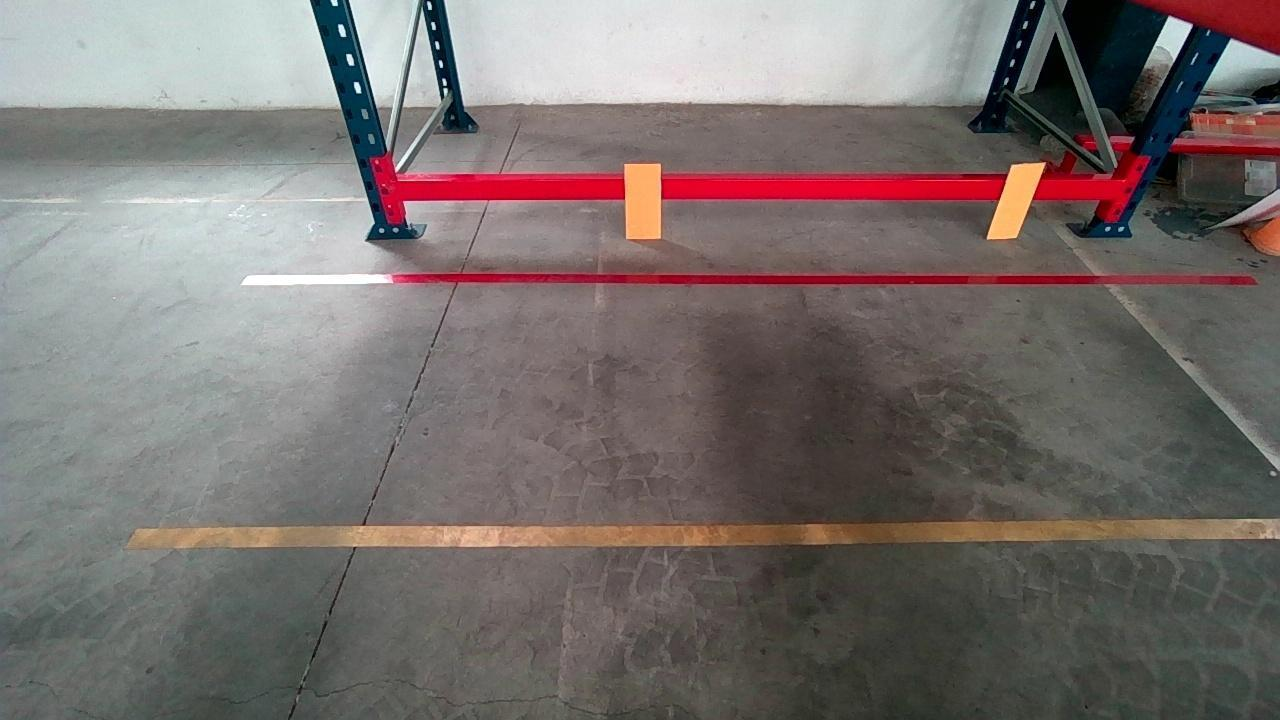h_rack: (396, 170, 1114, 207)
orange_strip: (987, 162, 1048, 237), (626, 162, 662, 237)
red_line: (151, 514, 1272, 552), (252, 270, 1254, 288)
